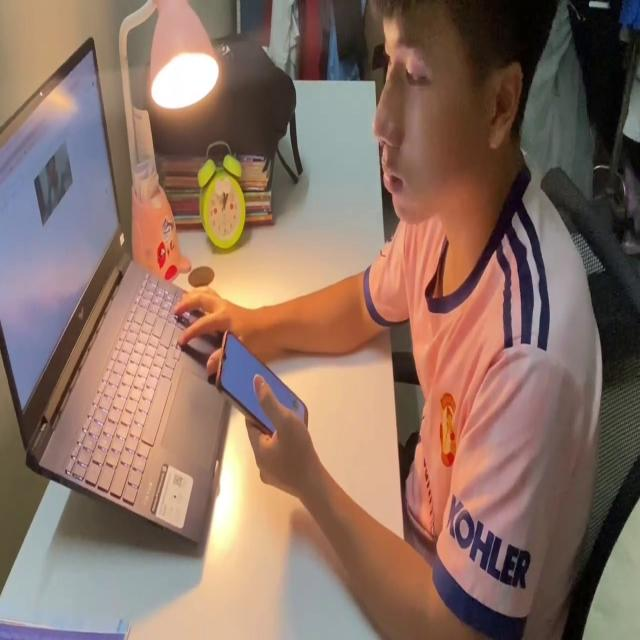laptop: (2, 32, 232, 558)
phone: (214, 322, 312, 443)
student: (168, 0, 600, 640)
